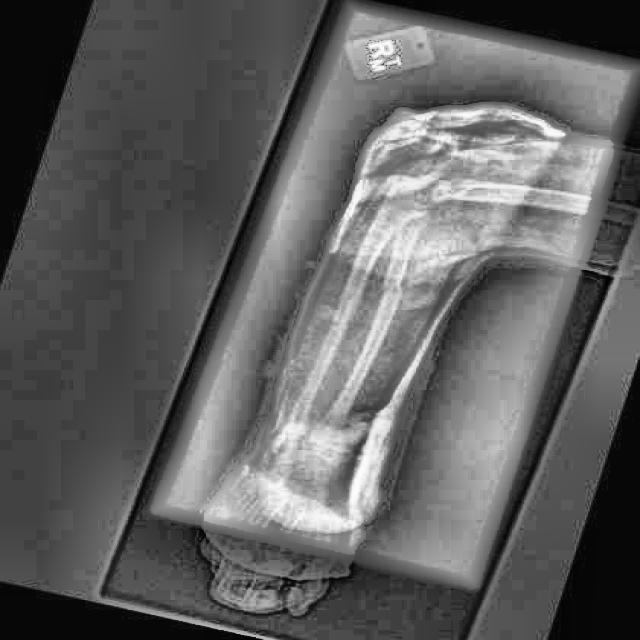forearm fracture: (362, 271, 421, 314)
